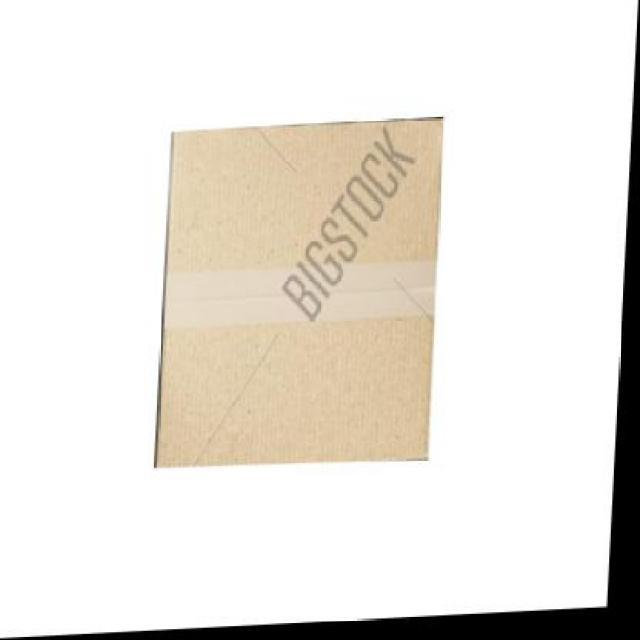box: (157, 123, 443, 470)
